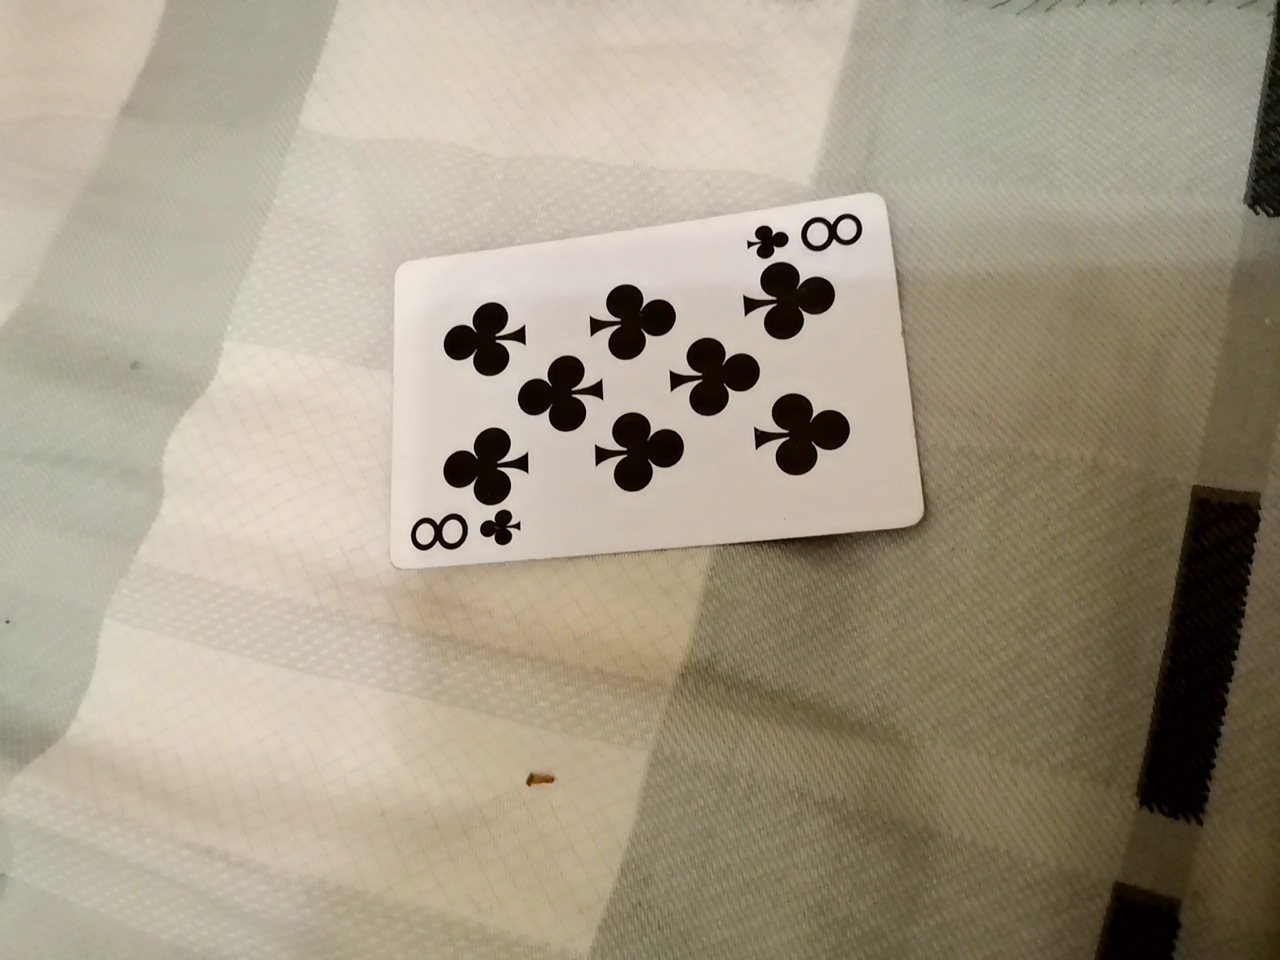mh 8: (368, 183, 923, 565)
